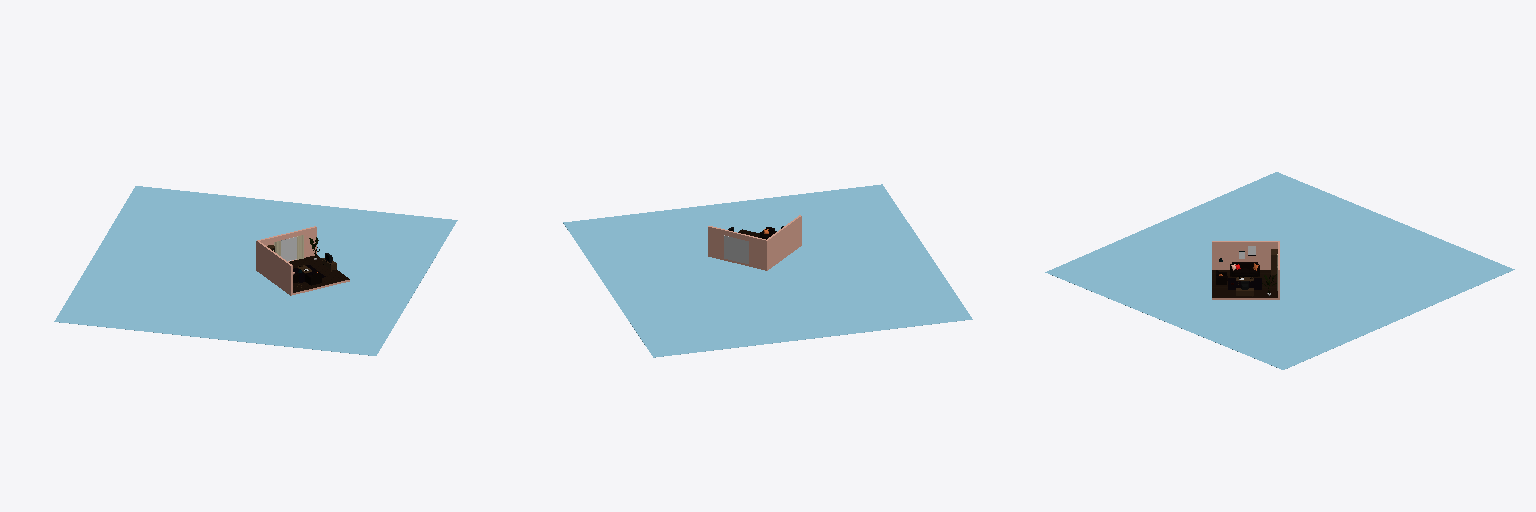
File: Living_room_obj.obj
The picture shows the model from 3 angles: view 1: azimuth 30°, elevation 25°; view 2: azimuth 150°, elevation 25°; view 3: azimuth 270°, elevation 25°; orthographic projection.
Visible parts, largest first — view 1: Background_Plane.035, Wall_X_Plane.001, Floor_Plane.034, Wall_Y_Plane.002; view 2: Background_Plane.035, Wall_Y_Plane.002, Wall_X_Plane.001, Light_Window_Plane.036; view 3: Background_Plane.035, Wall_X_Plane.001, Floor_Plane.034.
Part boxes in pixels (left/top/right/bottom): Background_Plane.035: left=54, top=186, right=457, bottom=355; Wall_X_Plane.001: left=256, top=240, right=292, bottom=295; Floor_Plane.034: left=289, top=255, right=349, bottom=292; Wall_Y_Plane.002: left=259, top=226, right=316, bottom=261; Background_Plane.035: left=563, top=184, right=972, bottom=357; Wall_Y_Plane.002: left=708, top=226, right=765, bottom=269; Wall_X_Plane.001: left=765, top=215, right=801, bottom=270; Light_Window_Plane.036: left=724, top=235, right=748, bottom=263; Background_Plane.035: left=1045, top=172, right=1514, bottom=369; Wall_X_Plane.001: left=1212, top=241, right=1279, bottom=269; Floor_Plane.034: left=1212, top=270, right=1277, bottom=297.
Size of the model in its own units: 84.84 by 6.02 by 84.84.